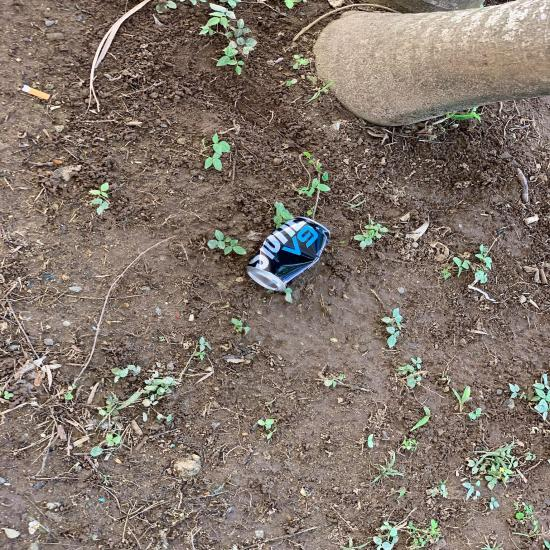Cigarette: (254, 270, 271, 279)
Foam food container: (365, 368, 493, 475)
Plastic film: (276, 409, 340, 470)
